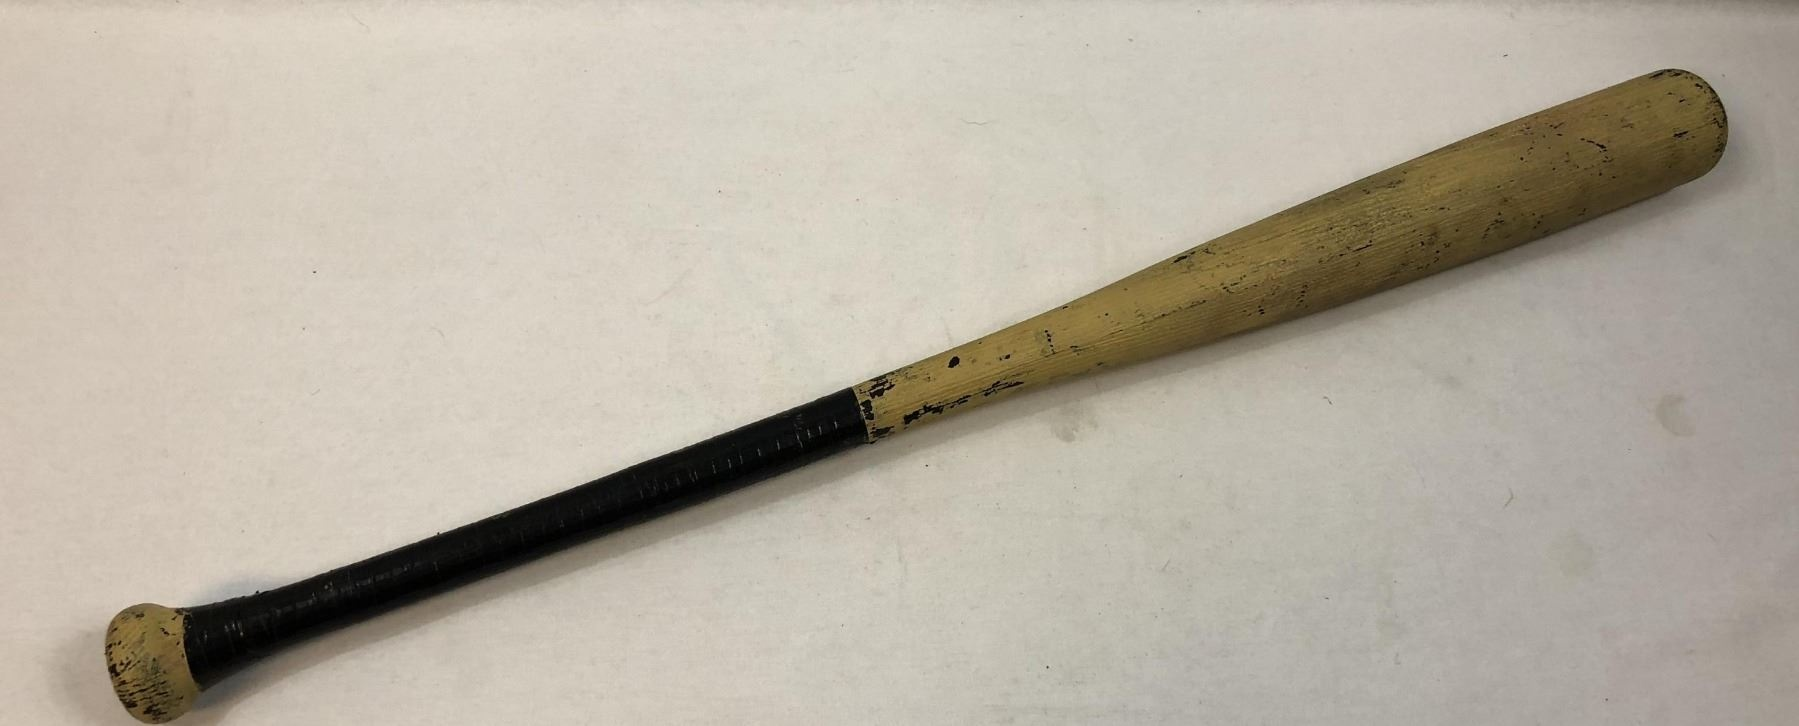bita: (100, 70, 1726, 713)
